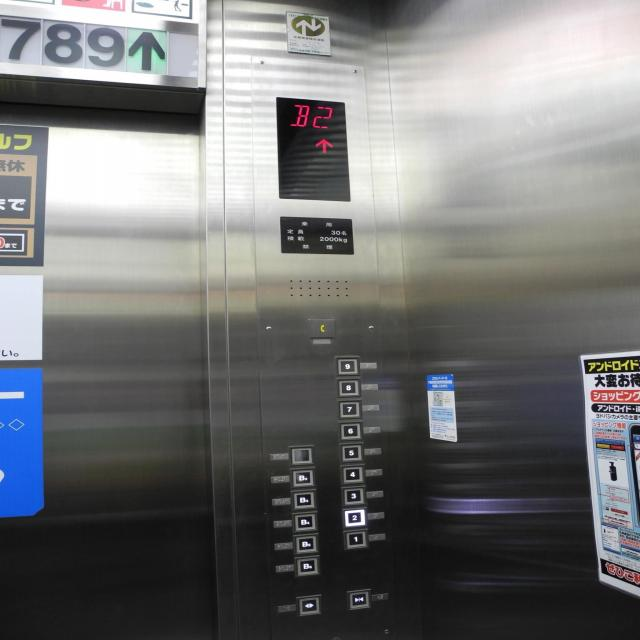1: (342, 528, 369, 550)
2: (341, 506, 367, 528)
3: (341, 486, 366, 506)
4: (339, 464, 365, 485)
5: (338, 442, 364, 463)
6: (338, 421, 362, 441)
7: (336, 400, 363, 420)
8: (336, 377, 362, 398)
9: (334, 356, 361, 376)
B2: (290, 468, 316, 488)
B3: (290, 489, 317, 510)
B4: (291, 511, 318, 533)
B5: (292, 533, 319, 554)
B6: (294, 554, 321, 578)
call: (307, 319, 333, 338)
close: (344, 588, 372, 611)
empty: (288, 445, 314, 467)
led: (275, 98, 352, 201)
open: (296, 594, 322, 618)
